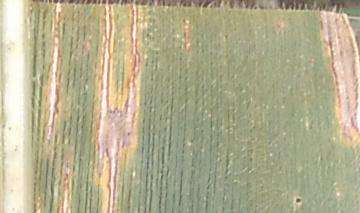tarspot: (293, 195, 305, 205)
